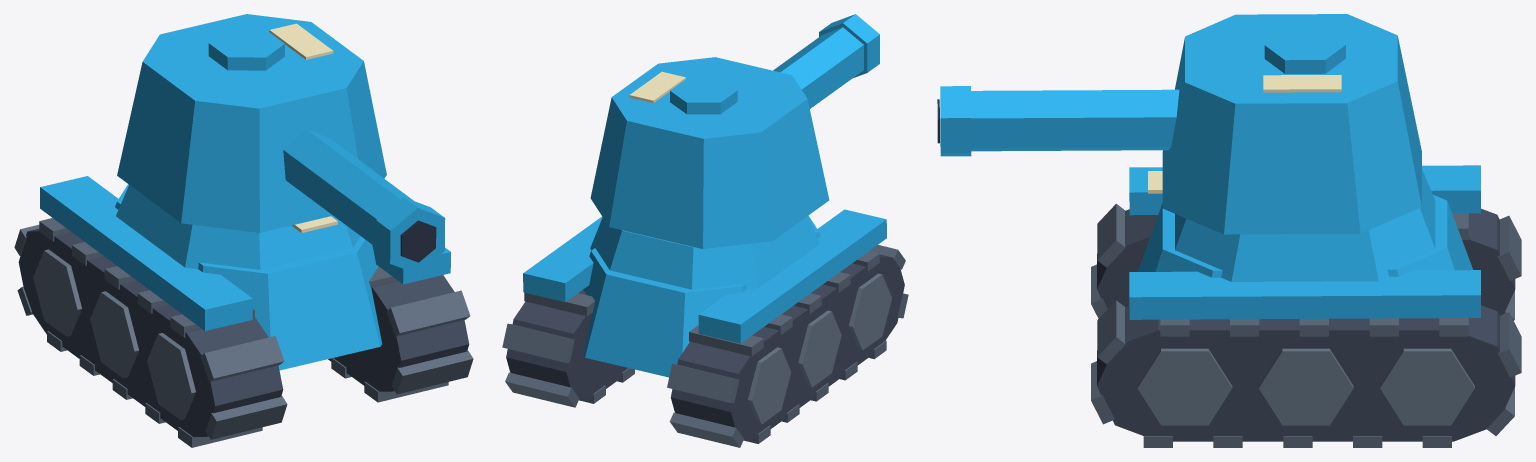
The model's file is tank_01_azure_scout.glb.
3 views of the same model, side by side, from view 1: azimuth 30°, elevation 25°; view 2: azimuth 150°, elevation 25°; view 3: azimuth 270°, elevation 25° (orthographic). The views are drawn at different scales.
Parts seen in each view (by area): view 1: 01 | Faceted turret.001, 01 | Track belt.002, 01 | Lower hull.001, 01 | Track guard.002, 01 | Upper deck.001, 01 | Cannon tube.001, 01 | Track belt.003, 01 | Muzzle rim.001, 01 | Road wheel.006, 01 | Road wheel.007, 01 | Road wheel.008, 01 | Commander hatch.001 (+9 smaller); view 2: 01 | Faceted turret.001, 01 | Track belt.002, 01 | Lower hull.001, 01 | Upper deck.001, 01 | Track guard.002, 01 | Track belt.003, 01 | Cannon tube.001, 01 | Track guard.003, 01 | Road wheel.007, 01 | Road wheel.006, 01 | Road wheel.008, 01 | Commander hatch.001 (+8 smaller); view 3: 01 | Faceted turret.001, 01 | Track belt.003, 01 | Track guard.003, 01 | Cannon tube.001, 01 | Upper deck.001, 01 | Track belt.002, 01 | Road wheel.009, 01 | Road wheel.010, 01 | Road wheel.011, 01 | Lower hull.001, 01 | Track guard.002, 01 | Commander hatch.001 (+9 smaller).
Boxes of the visible parts, x1,y1,x2,y2 form: 01 | Faceted turret.001: (117,14,386,232); 01 | Track belt.002: (18,228,283,436); 01 | Lower hull.001: (115,184,382,370); 01 | Track guard.002: (40,176,252,330); 01 | Upper deck.001: (116,185,360,269); 01 | Cannon tube.001: (283,129,413,246); 01 | Track belt.003: (328,275,469,391); 01 | Muzzle rim.001: (375,197,445,273); 01 | Road wheel.006: (147,333,195,419); 01 | Road wheel.007: (90,291,138,378); 01 | Road wheel.008: (33,249,81,336); 01 | Commander hatch.001: (208,29,284,70); 01 | Faceted turret.001: (590,57,829,249); 01 | Track belt.002: (670,254,904,439); 01 | Lower hull.001: (583,215,820,377); 01 | Upper deck.001: (590,216,819,289); 01 | Track guard.002: (698,209,886,343); 01 | Track belt.003: (506,289,627,399); 01 | Cannon tube.001: (773,27,863,108); 01 | Track guard.003: (523,216,602,302); 01 | Road wheel.007: (798,310,841,387); 01 | Road wheel.006: (848,273,891,350); 01 | Road wheel.008: (748,347,791,424); 01 | Commander hatch.001: (670,78,737,114); 01 | Faceted turret.001: (1162,14,1421,234); 01 | Track belt.003: (1097,305,1515,441); 01 | Track guard.003: (1129,270,1480,319); 01 | Cannon tube.001: (971,89,1179,151); 01 | Upper deck.001: (1175,170,1435,281); 01 | Track belt.002: (1097,208,1515,315); 01 | Road wheel.009: (1137,348,1232,425); 01 | Road wheel.010: (1258,348,1353,425); 01 | Road wheel.011: (1380,348,1474,425); 01 | Lower hull.001: (1138,194,1472,277); 01 | Track guard.002: (1129,165,1480,215); 01 | Commander hatch.001: (1264,29,1345,73).
Bounding box in the file's own units: 1.16 × 1.34 × 2.09.
